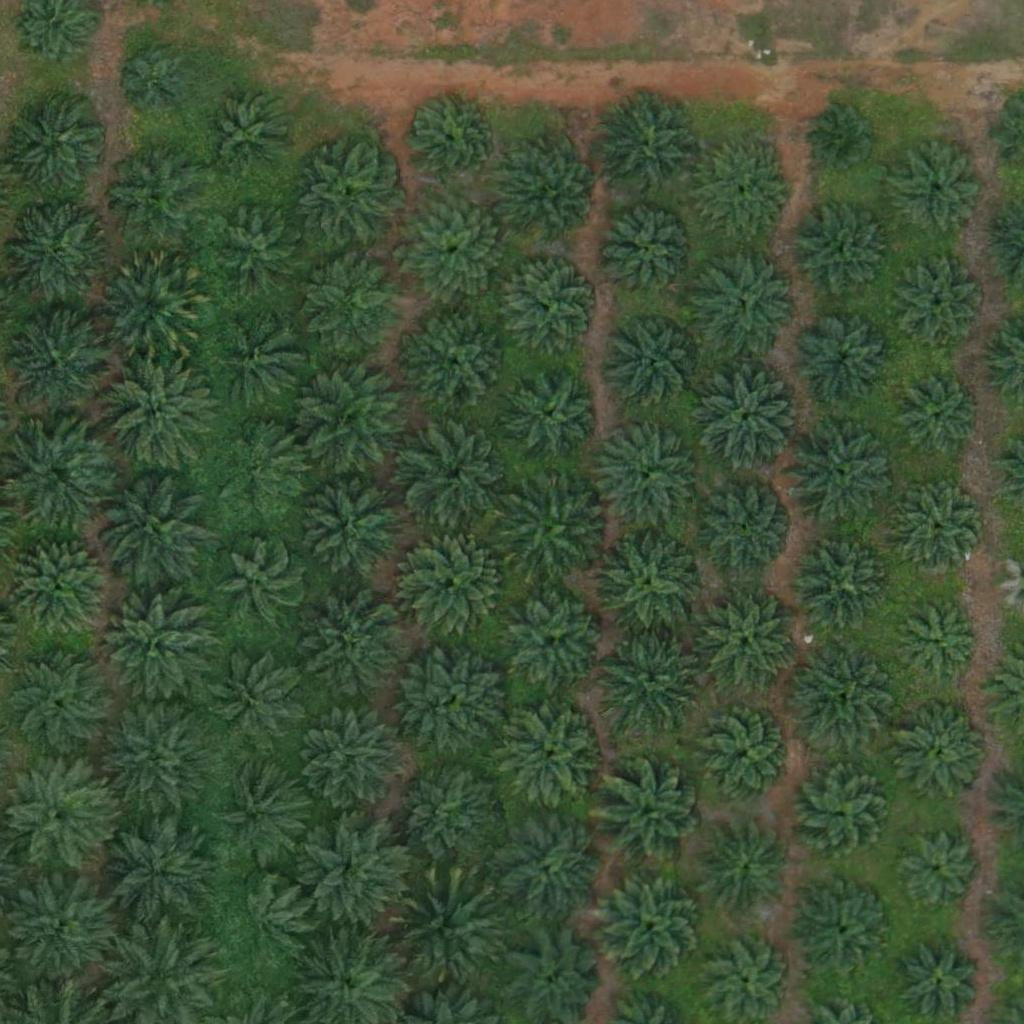Kelapa_Sawit: (398, 194, 511, 308), (402, 306, 515, 420), (499, 470, 612, 584), (591, 527, 704, 641), (599, 626, 712, 740), (2, 872, 115, 986), (96, 250, 209, 363), (100, 354, 213, 467), (95, 471, 208, 584), (99, 593, 212, 706), (297, 701, 410, 814), (786, 417, 899, 530), (593, 758, 706, 871), (595, 868, 708, 981), (299, 815, 412, 928), (589, 420, 701, 534), (786, 642, 898, 756), (3, 644, 115, 757), (102, 701, 214, 814), (300, 364, 412, 477), (298, 472, 410, 585), (402, 421, 514, 534), (401, 645, 513, 758), (593, 91, 705, 204), (693, 361, 805, 474), (392, 761, 504, 874), (391, 876, 503, 989), (101, 816, 213, 929), (1, 759, 113, 872), (104, 147, 204, 248), (5, 312, 105, 413), (8, 535, 108, 636), (306, 596, 406, 697), (404, 532, 504, 633), (501, 146, 601, 247), (506, 589, 606, 690), (602, 205, 702, 306), (604, 311, 704, 412), (695, 143, 795, 244), (697, 249, 797, 350), (791, 201, 891, 302), (794, 309, 894, 410), (792, 533, 892, 634), (888, 139, 988, 240), (695, 817, 795, 918), (499, 704, 599, 805), (496, 816, 596, 917), (211, 762, 311, 863), (297, 146, 397, 246), (310, 256, 410, 356), (501, 255, 601, 355), (504, 366, 604, 466), (696, 477, 796, 577), (698, 594, 798, 694), (892, 701, 992, 801), (791, 763, 891, 863), (795, 879, 895, 979), (695, 704, 795, 804), (896, 263, 984, 352), (204, 91, 292, 179), (215, 321, 303, 409), (895, 830, 983, 918), (220, 879, 308, 967), (220, 211, 307, 299), (219, 425, 306, 513), (214, 539, 301, 627), (215, 655, 302, 743), (405, 94, 492, 182), (893, 377, 980, 465), (896, 487, 983, 575), (902, 604, 977, 680), (904, 947, 979, 1023), (814, 104, 877, 167), (122, 49, 185, 112)
